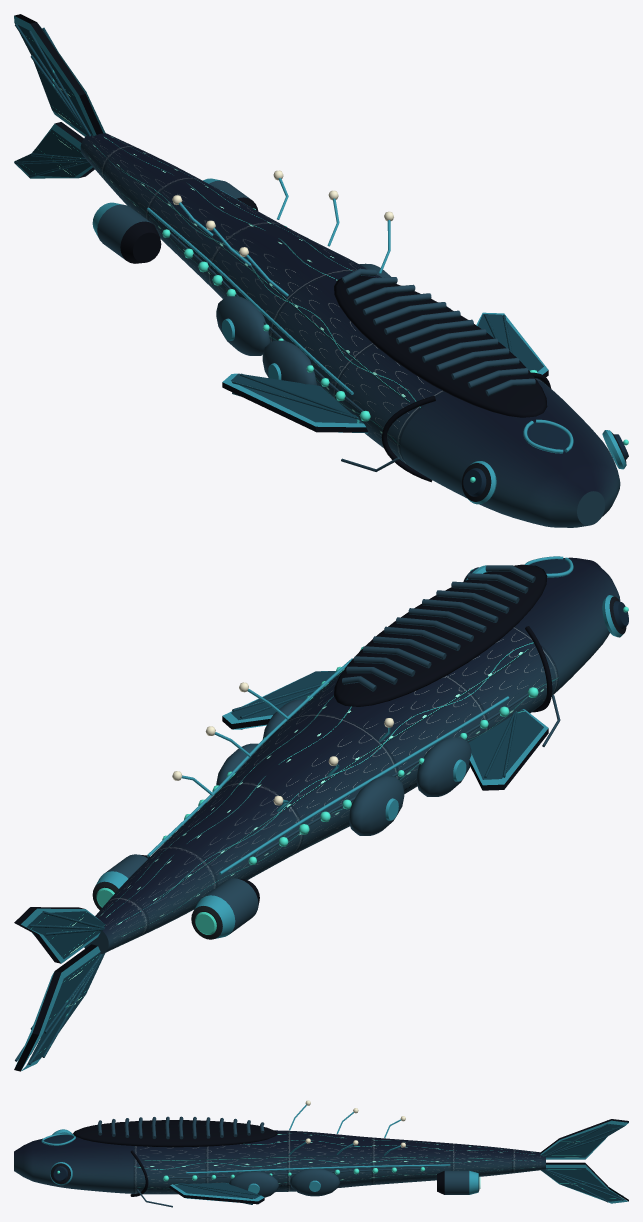
3 views of the same model, one above another, from view 1: azimuth 30°, elevation 25°; view 2: azimuth 150°, elevation 25°; view 3: azimuth 270°, elevation 25° (orthographic). The views are drawn at different scales.
Visible parts, largest first — view 1: remora_hull; view 2: remora_hull; view 3: remora_hull.
Part boxes in pixels (x1,y1,x2,y2): remora_hull: [14, 14, 628, 527]; remora_hull: [14, 556, 628, 1071]; remora_hull: [14, 1100, 628, 1207].
Bounding box in the file's own units: 10.78 × 5.68 × 38.
1 material, 1 textured.
